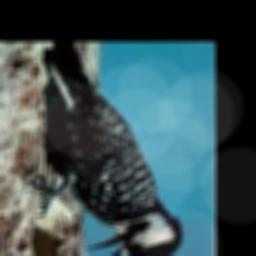Woodpecker: (22, 44, 190, 256)
